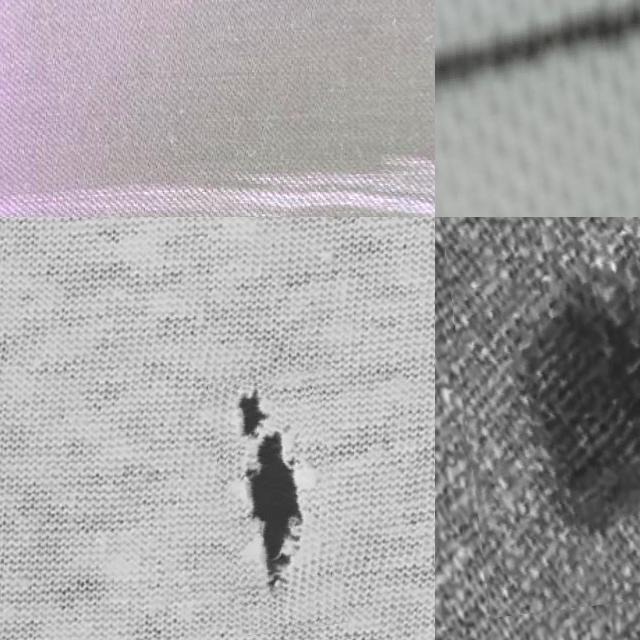Thread_other: (435, 0, 640, 217)
seam: (453, 217, 640, 609), (214, 374, 340, 634)
